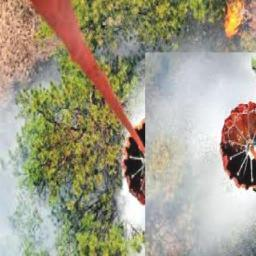Low smoke: (146, 52, 256, 256), (0, 96, 70, 256)
Small fire: (221, 0, 249, 39)
